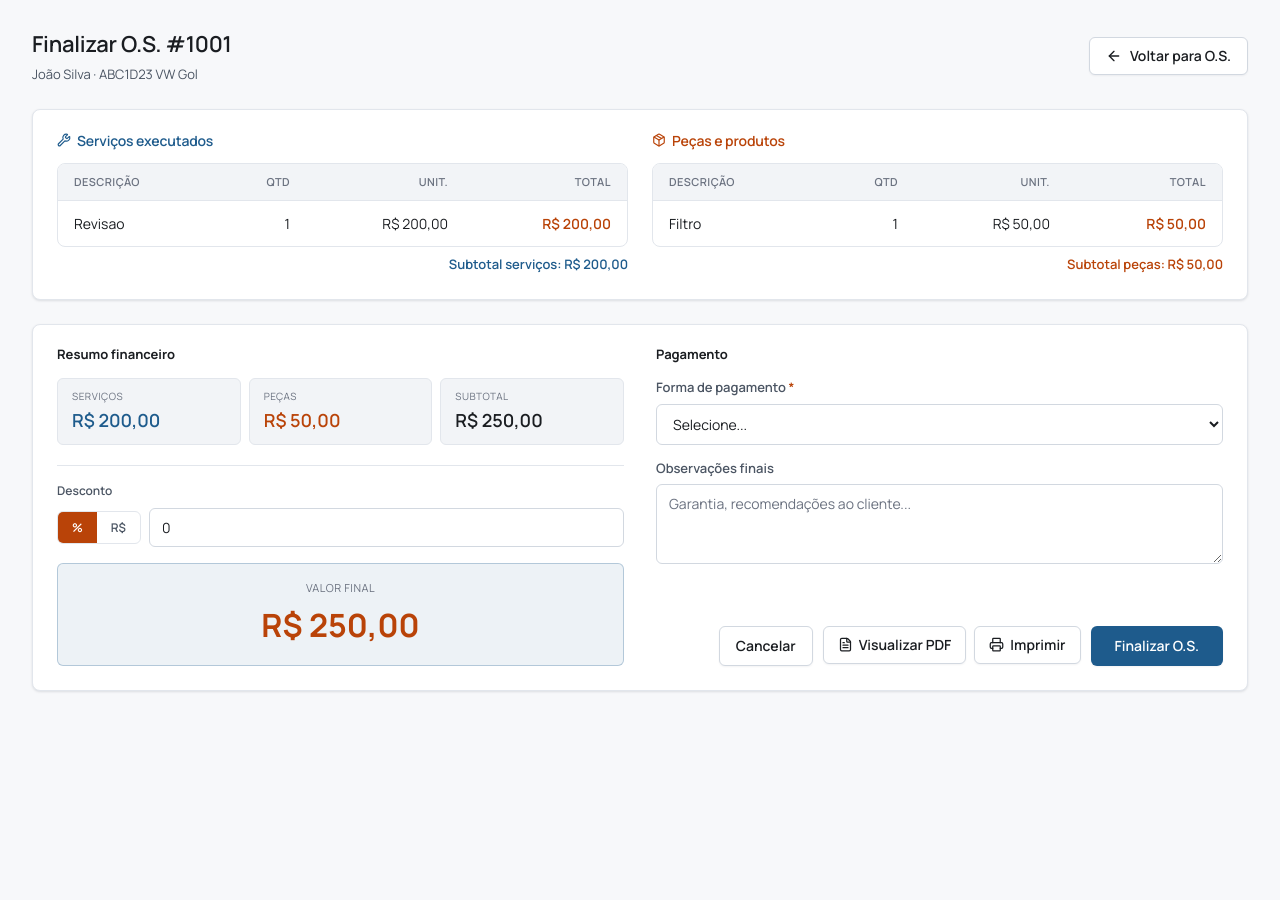
Encerrar O.S. — chamada do RPC finalizarOrdemServico › envia desconto, forma de pagamento e observacoes no payload do RPC
Type "10" into the number field.
click(386, 528); type("10")  # box [149,508,624,547]
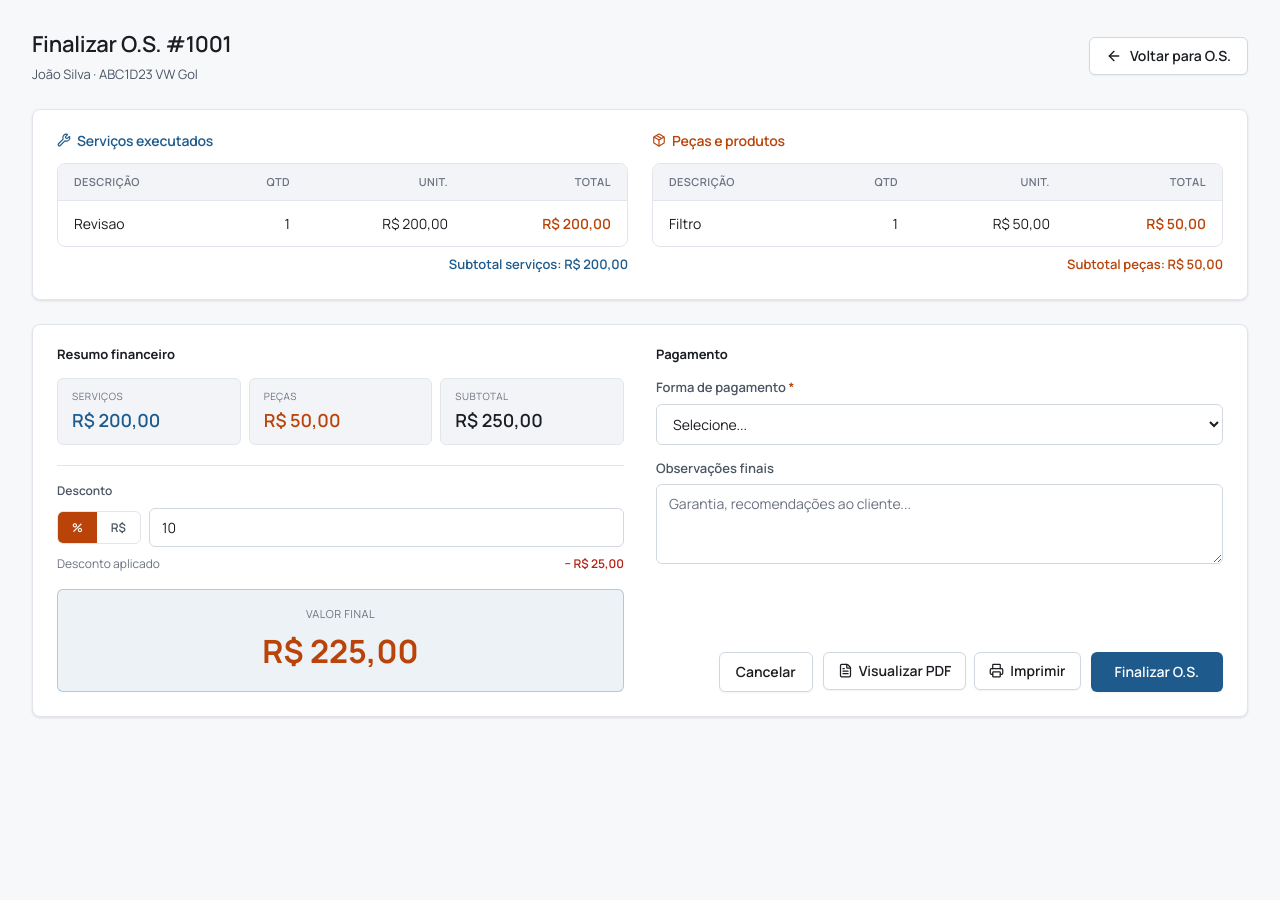
Select "Pix" in the dropdown at {"x": 940, "y": 424}, box [656,404,1223,444]
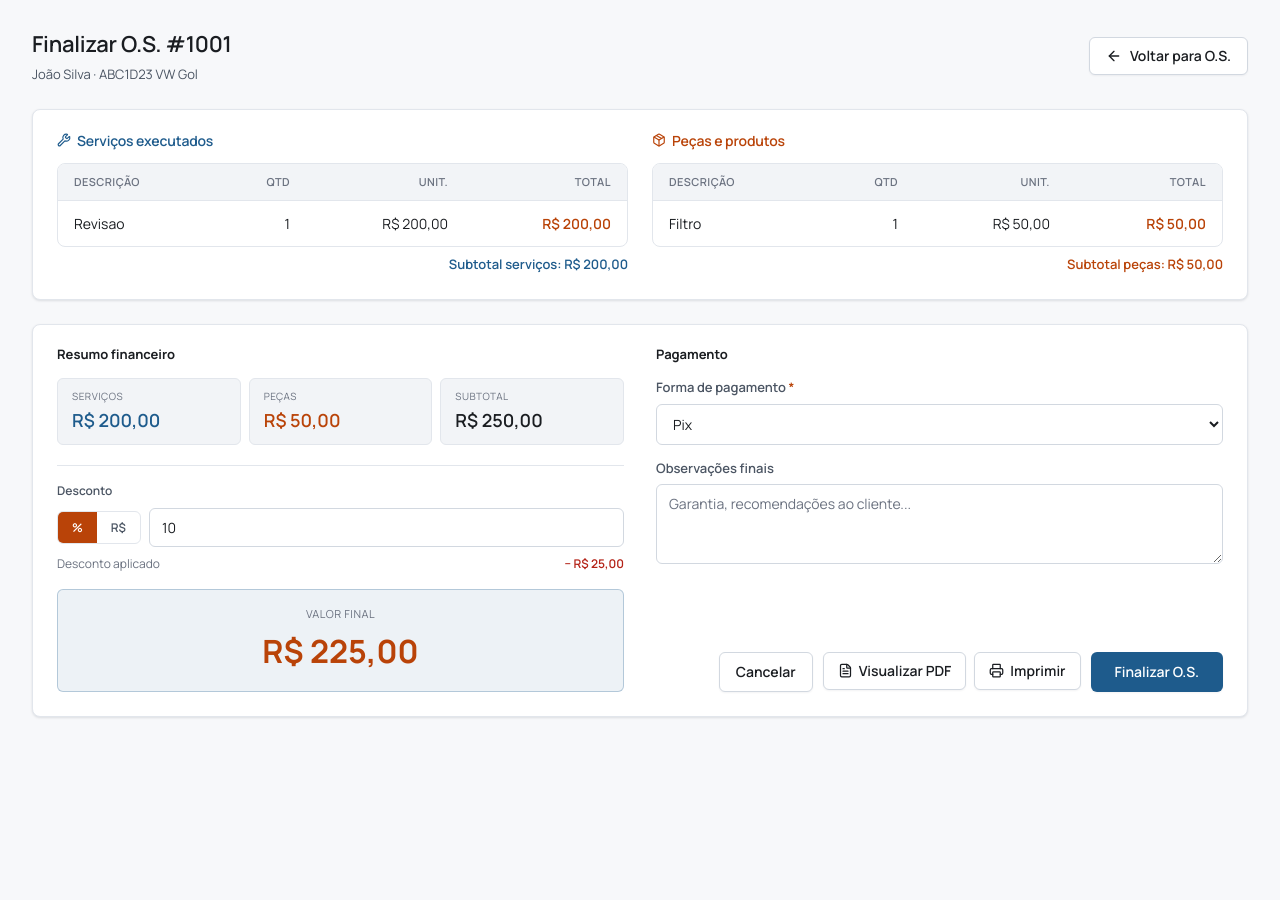
Type "Garantia de 90 dias" into the text box with placeholder "Garantia, recomendações ao cliente...".
click(940, 524); type("Garantia de 90 dias")  # box [656,484,1223,564]
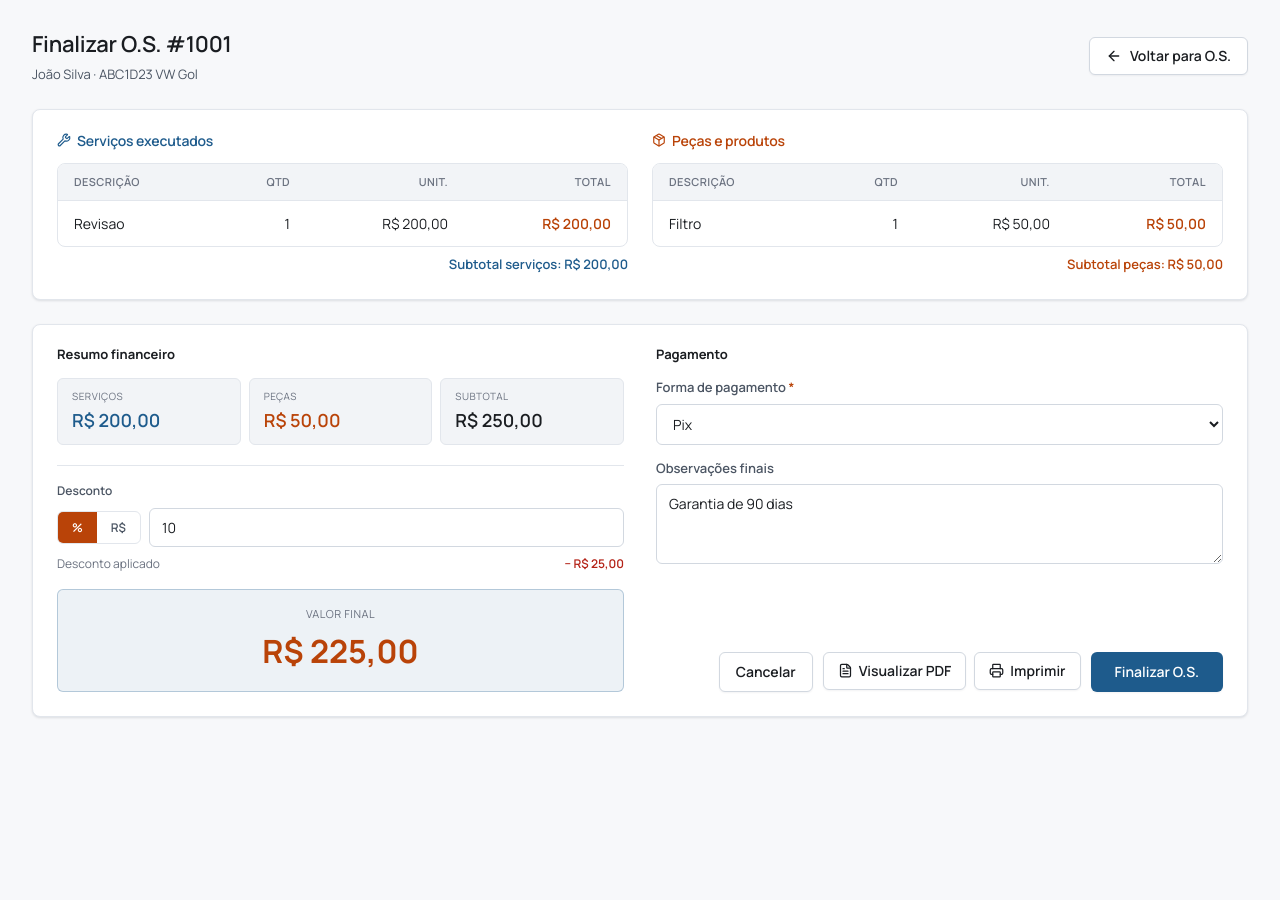
// Passo 1: revisao.
Click the button "Finalizar O.S.".
click(1157, 672)  # box [1090,652,1223,692]
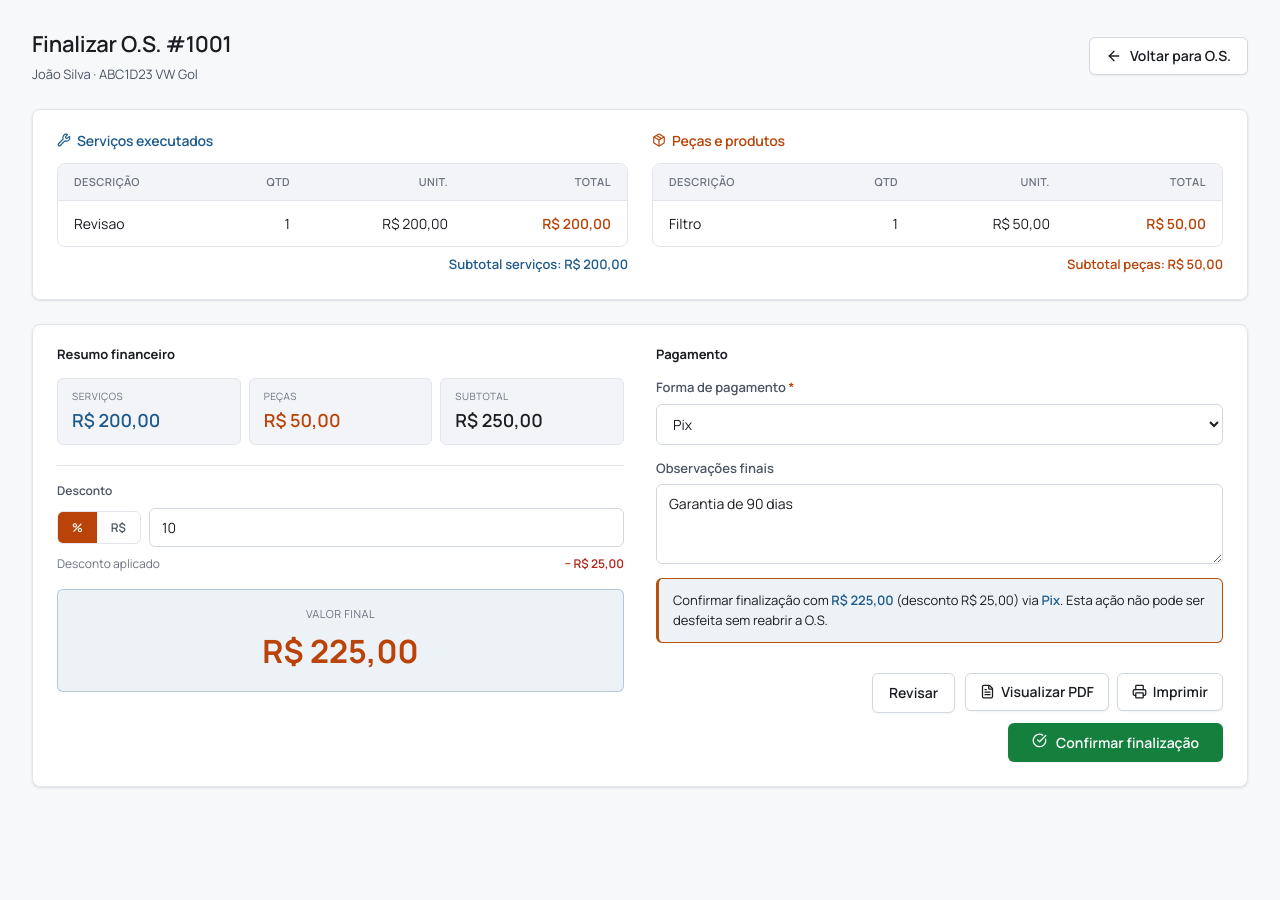
Check: the text "Confirmar finalização com" is shown, box [673,591,831,609]
// Passo 2: confirmacao.
Click the button "Confirmar finalização".
click(1116, 742)  # box [1008,723,1223,762]
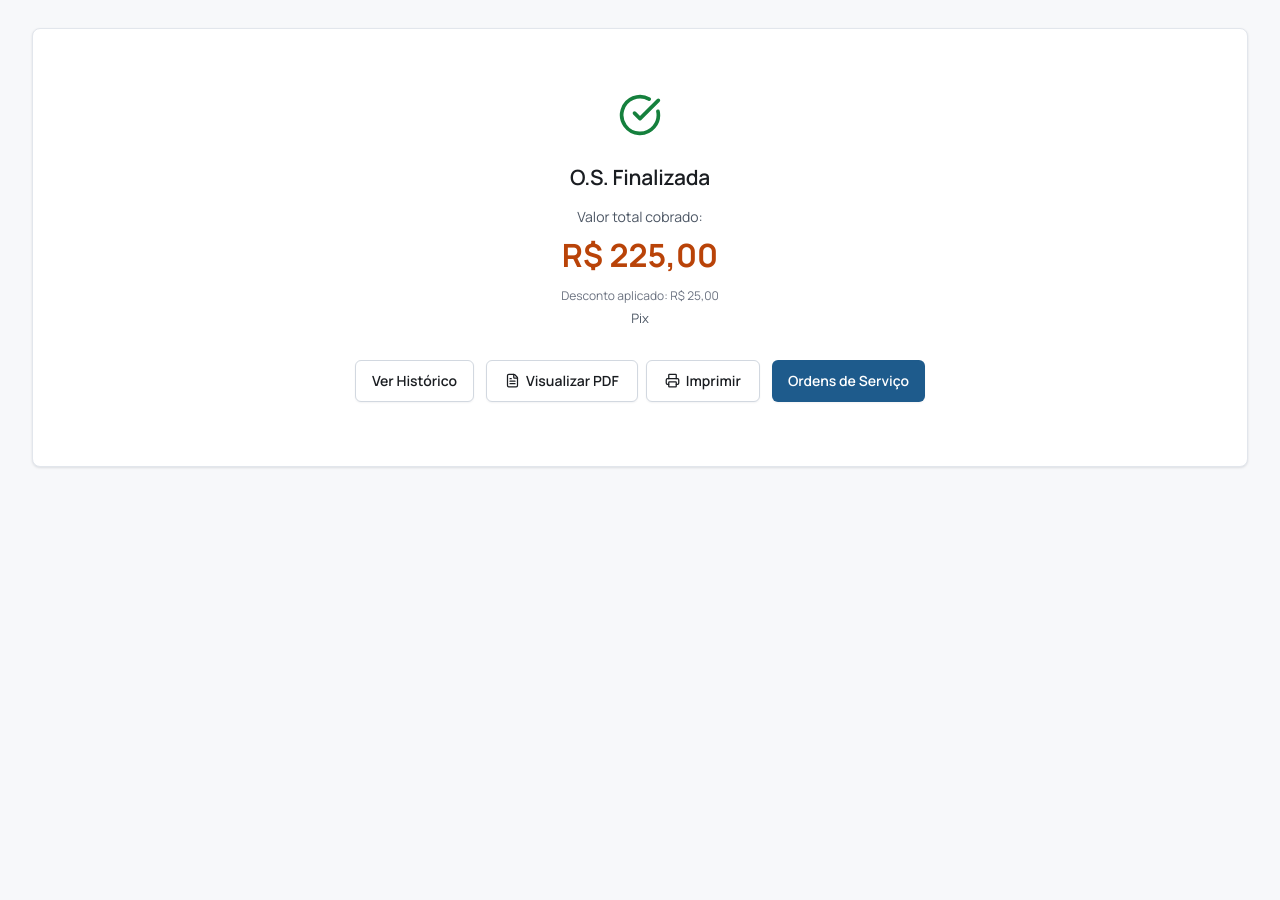
Check: the heading "O.S. Finalizada" is shown, box [570,163,710,191]
